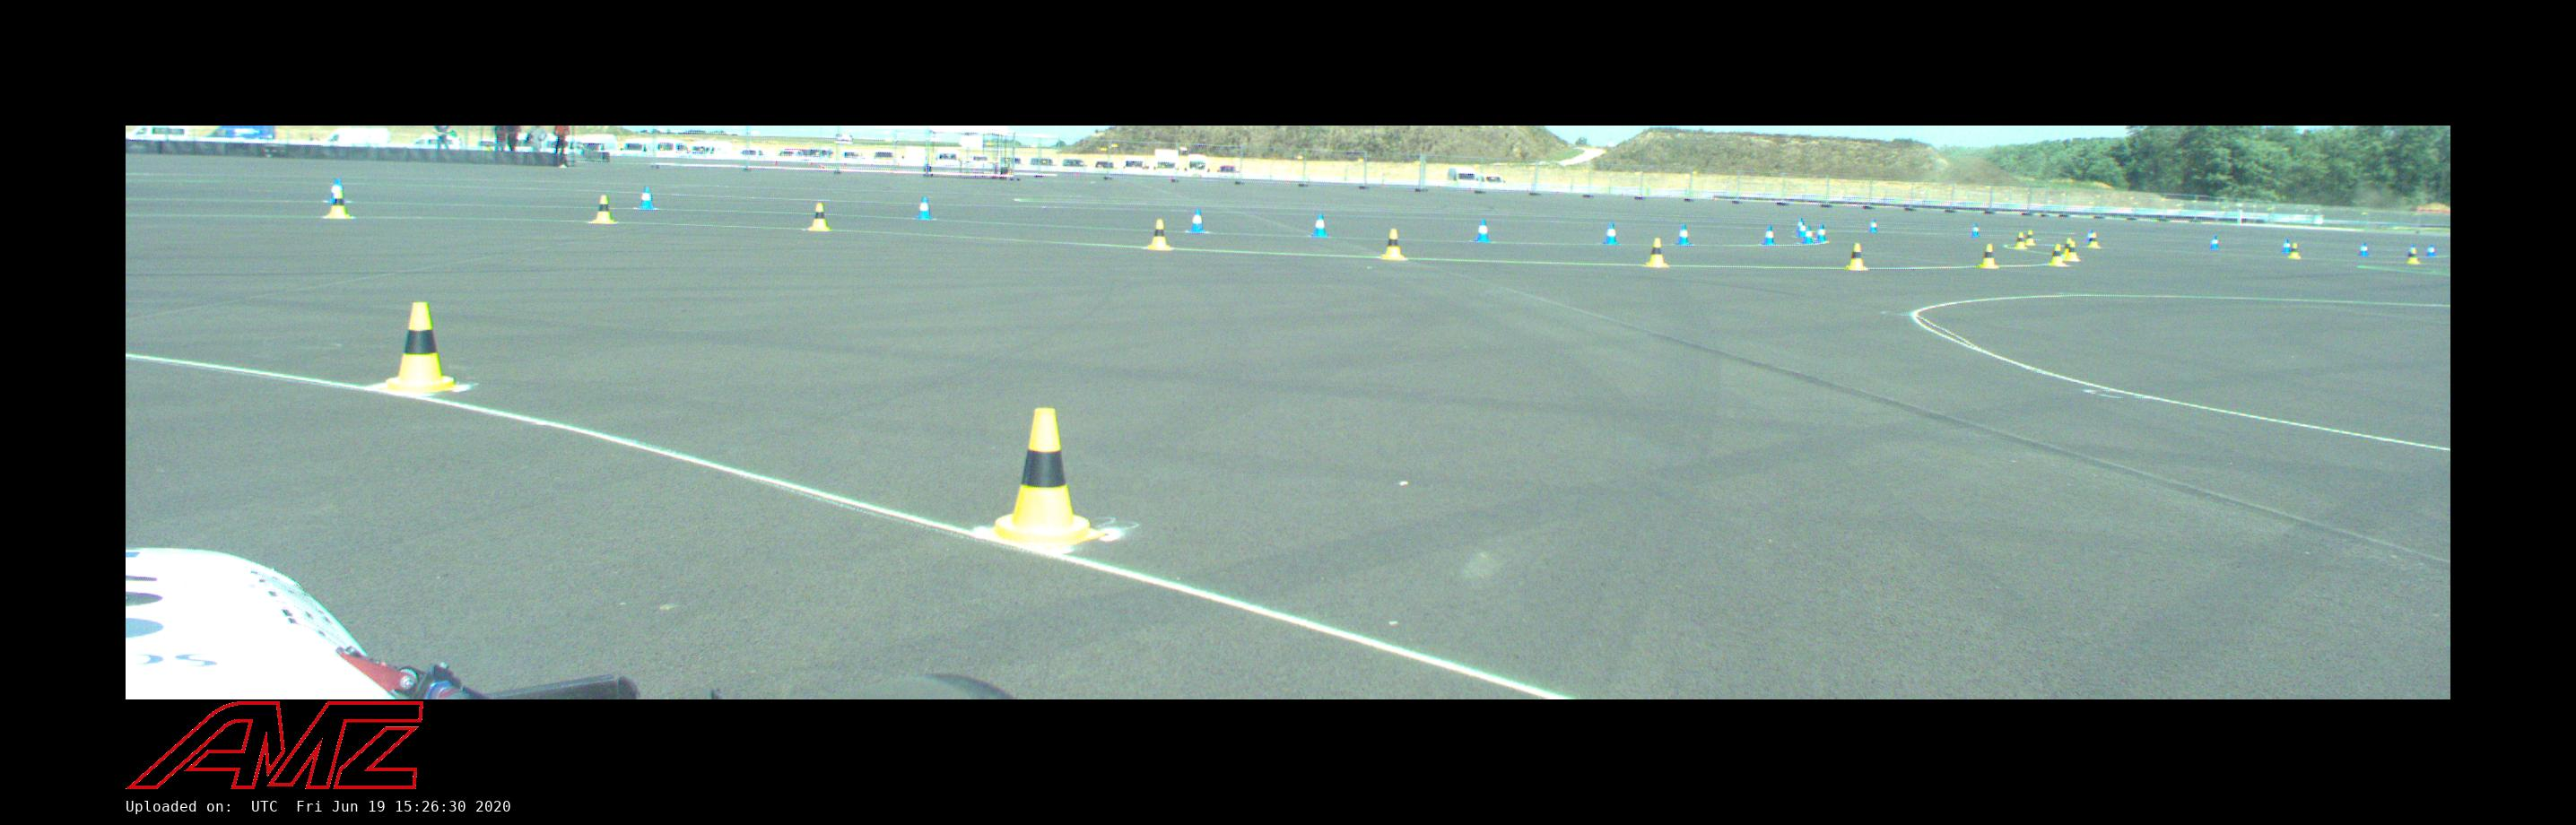blue_cone: (325, 179, 347, 203), (1188, 209, 1205, 232), (1474, 221, 1492, 242), (1312, 213, 1328, 237), (639, 187, 655, 210), (917, 197, 933, 218), (1604, 224, 1620, 244), (1677, 225, 1690, 245), (1764, 226, 1775, 246), (1817, 224, 1827, 242), (1803, 228, 1814, 243), (2280, 239, 2293, 251), (1970, 223, 1980, 236), (2359, 243, 2370, 256), (2210, 236, 2220, 249), (2086, 228, 2094, 244), (1869, 219, 1878, 233), (1796, 218, 1804, 232), (1800, 222, 1806, 237), (2428, 244, 2434, 256)
yellow_cone: (987, 409, 1105, 548), (385, 302, 454, 393), (1147, 220, 1171, 249), (592, 195, 615, 222), (1645, 238, 1666, 266), (1383, 230, 1403, 257), (327, 192, 349, 217), (808, 203, 828, 230), (1849, 244, 1867, 270), (1978, 244, 1997, 267), (2048, 244, 2067, 265), (2065, 242, 2078, 261), (2062, 238, 2073, 256), (2016, 232, 2026, 248), (2089, 231, 2099, 247), (2407, 249, 2419, 263), (2290, 244, 2300, 258), (2027, 230, 2034, 245)
